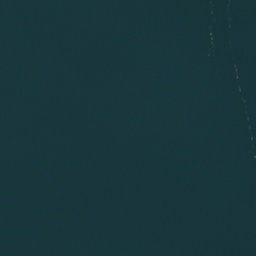Marine Debris: (231, 51, 256, 162)
